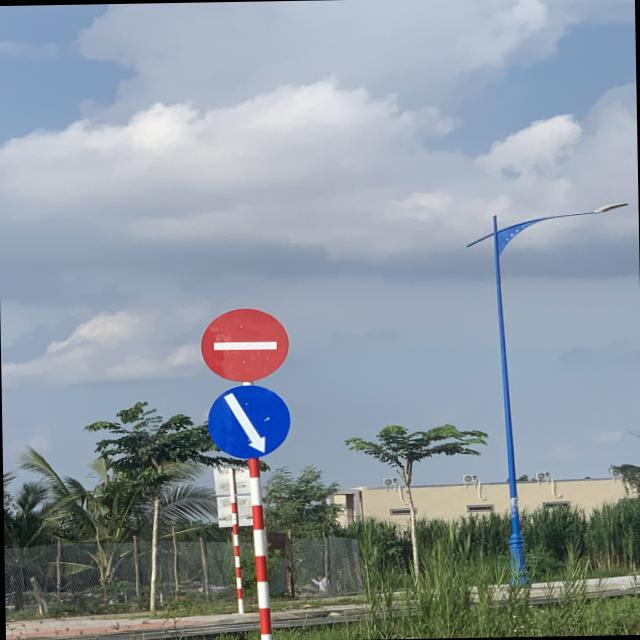Cam_Di_Nguoc_Chieu: (200, 305, 290, 383)
Chi_Huong_Di_Phai: (208, 384, 292, 458)
